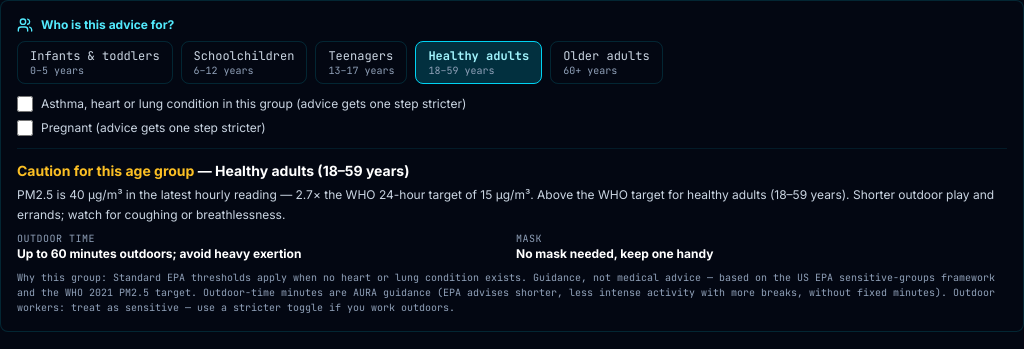
AgeGuidance component › switching to schoolchildren makes the advice one step stricter for the same reading
The image size is (1024, 349).
What coordinates should you click on to do the following:
click the button "Schoolchildren 6–12 years"
I would click on:
 (244, 63)
Its box is left=181, top=41, right=307, bottom=84.
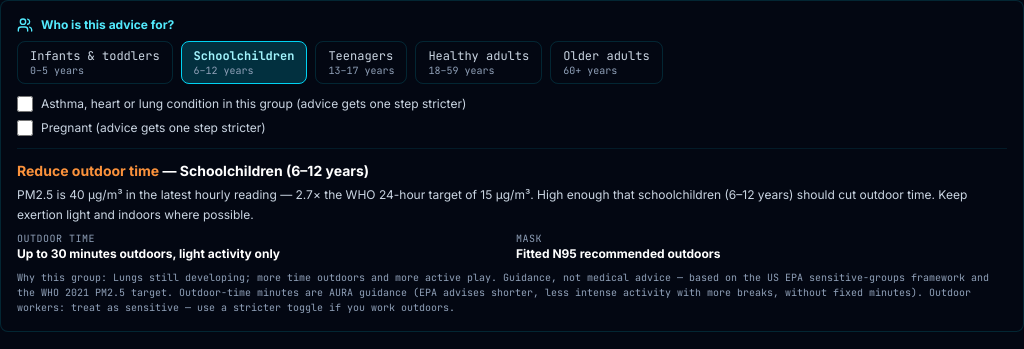
Expected: the text "Reduce outdoor time" is shown, left=17, top=162, right=159, bottom=179
